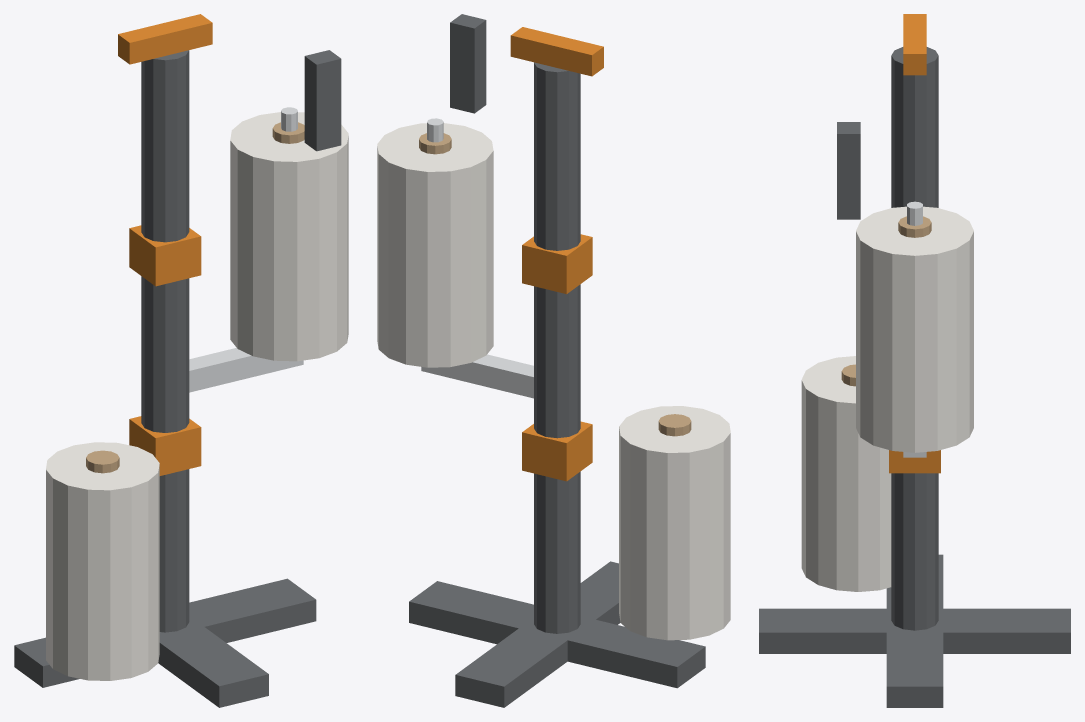
Rendered from self-storage-facility-and-loading-bay-self-storage-fac-28dca788__34716.glb.
The picture shows the model from 3 angles, left to right: view 1: azimuth 30°, elevation 25°; view 2: azimuth 150°, elevation 25°; view 3: azimuth 270°, elevation 25°; orthographic projection.
Parts seen in each view (by area): view 1: self-storage-facility-and-loading-bay-stretch-wrap-stand; view 2: self-storage-facility-and-loading-bay-stretch-wrap-stand; view 3: self-storage-facility-and-loading-bay-stretch-wrap-stand.
Boxes of the visible parts, <box> form: self-storage-facility-and-loading-bay-stretch-wrap-stand: <box>14,14,348,707</box>; self-storage-facility-and-loading-bay-stretch-wrap-stand: <box>377,14,730,707</box>; self-storage-facility-and-loading-bay-stretch-wrap-stand: <box>759,14,1070,707</box>.
Size of the model in its own units: 0.765 by 1.42 by 0.66.
